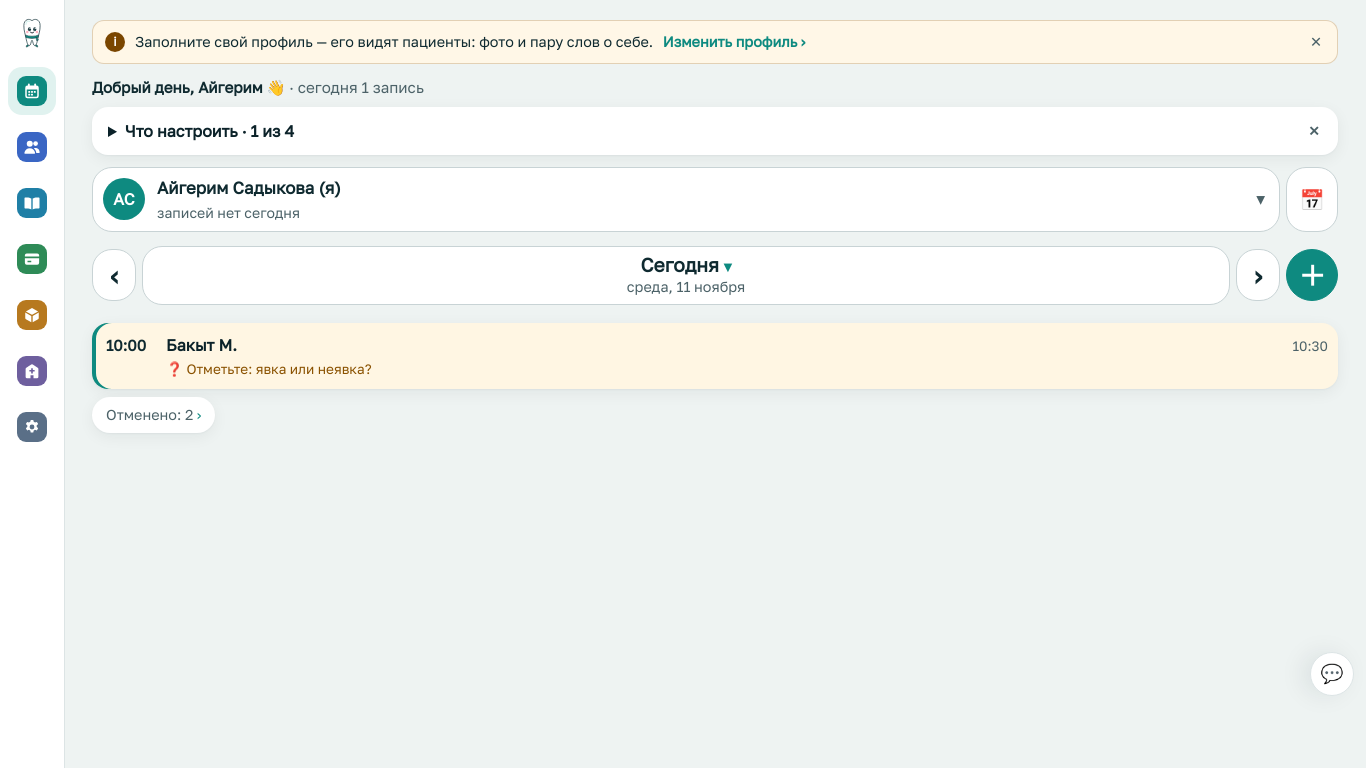
Test case: телефон: внизу дня «Отменено: 2 ›» — раскрыть, кто отменил; нажать — карточка «Отменён: …» и «Записан» (восстановить)
Later steps or results of the test are not shown.
Expected: the button with aria-label "10:00–10:30, Бакыт М." is shown, [92, 323, 1338, 389]
Click the button "Отменено: 2 ›".
click(154, 415)  # box [92, 397, 216, 433]
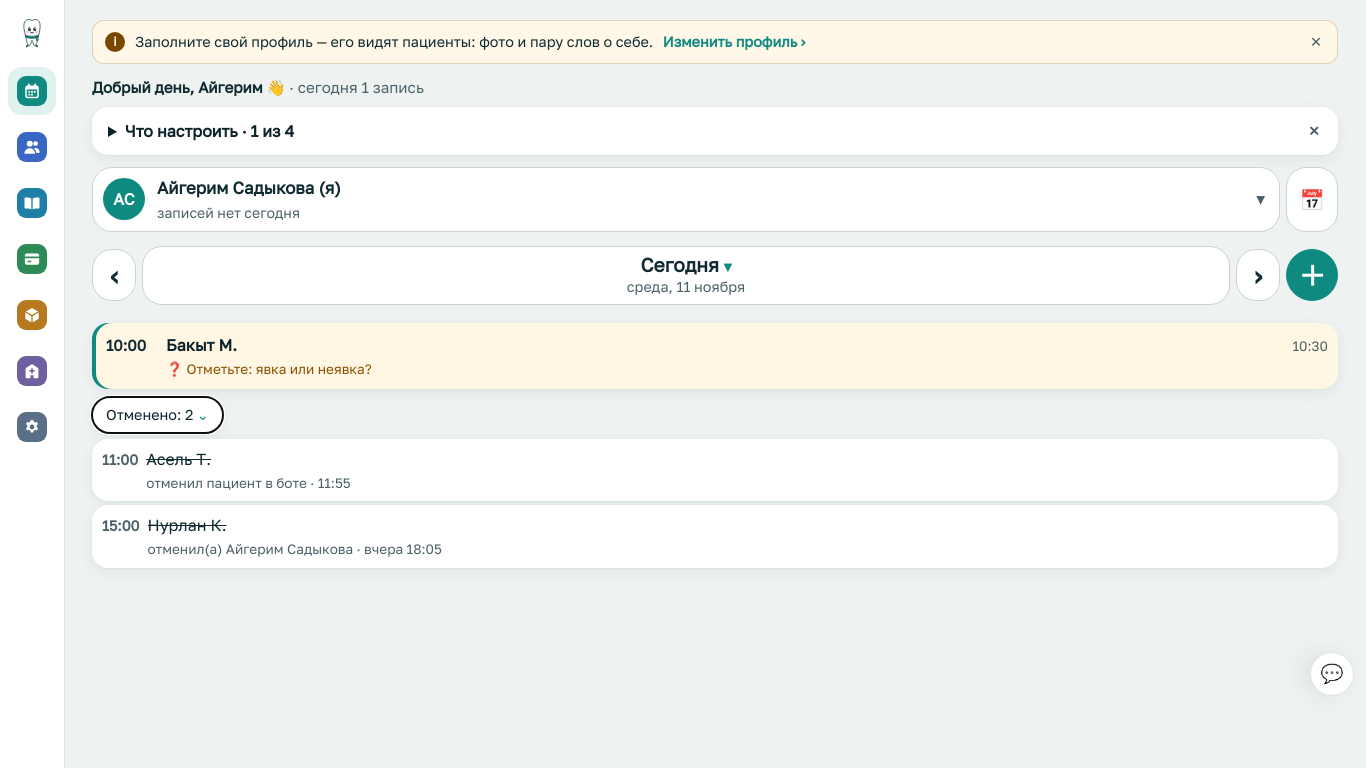
Expected: the button "Отменено: 2 ⌄" is expanded, [92, 397, 223, 433]
